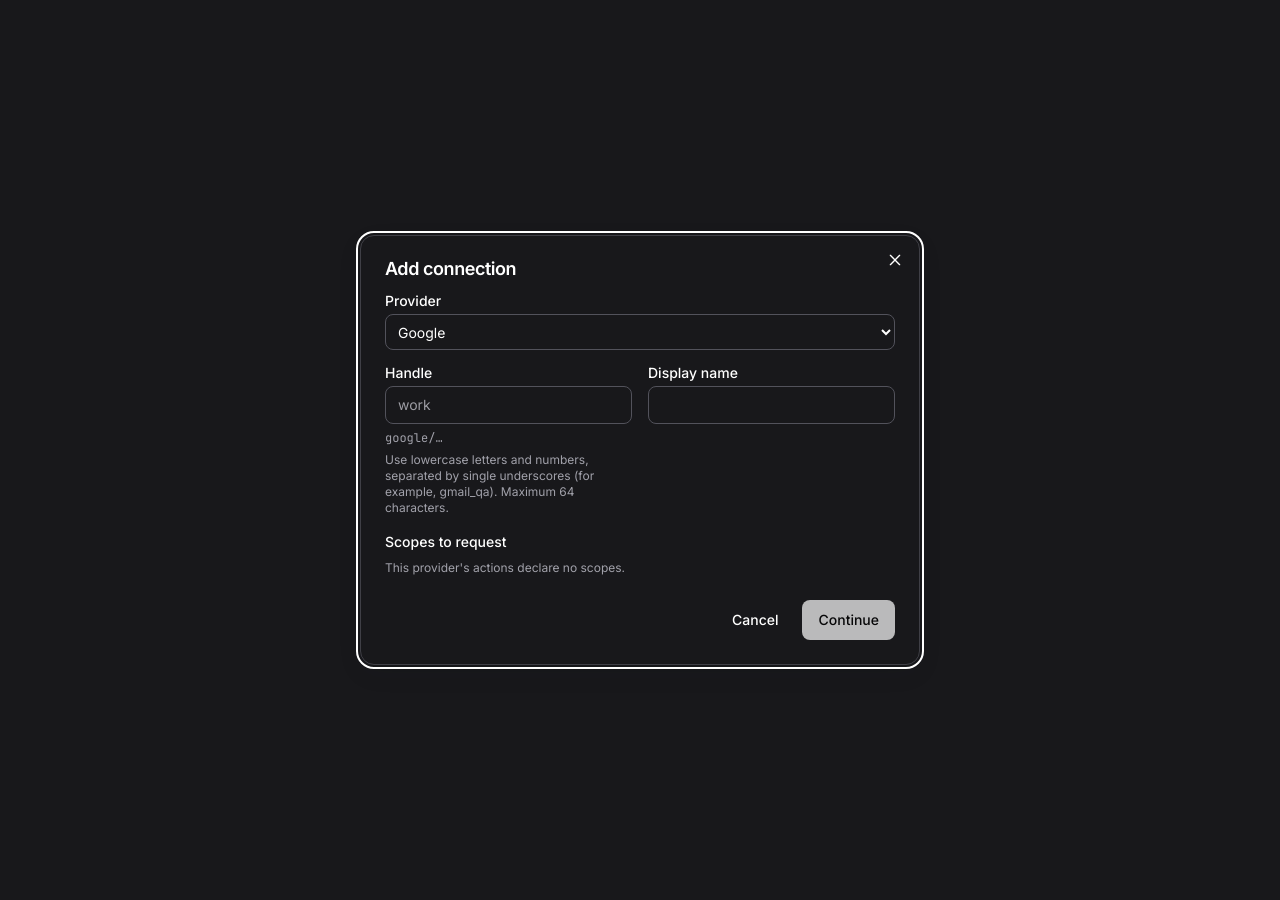
Scenario: AddConnectionDialog ownership › renders a server validation error as text and keeps the dialog usable
Step 1. Type "team_calendar" into the field with test id "connection-name" → coordinates (508, 405), box [385,386,632,424]
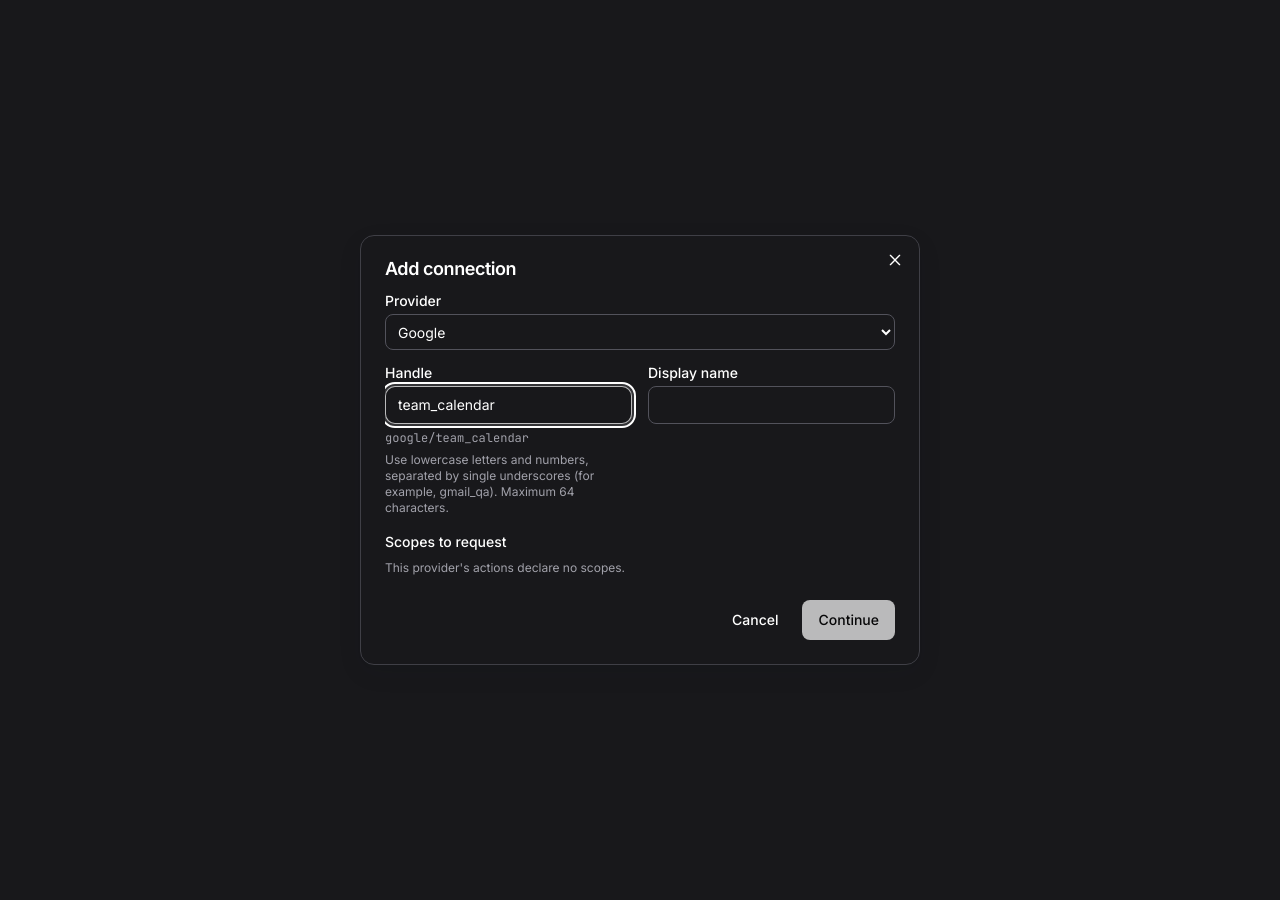
Step 2. Type "Team calendar" into the field with test id "connection-display-name" → coordinates (772, 405), box [648,386,895,424]
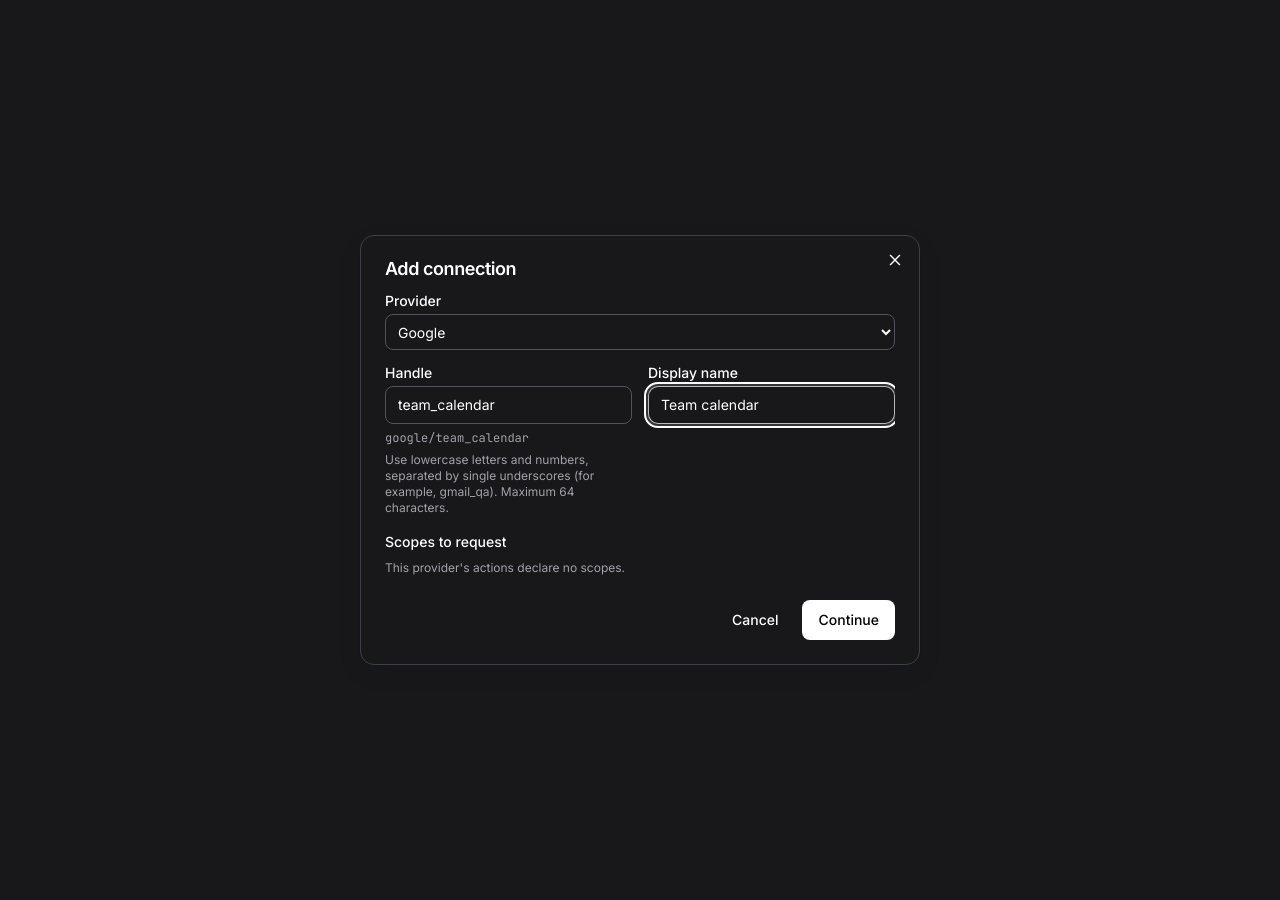
Step 3. Click the button with test id "connection-continue" → coordinates (849, 620), box [802,600,895,640]
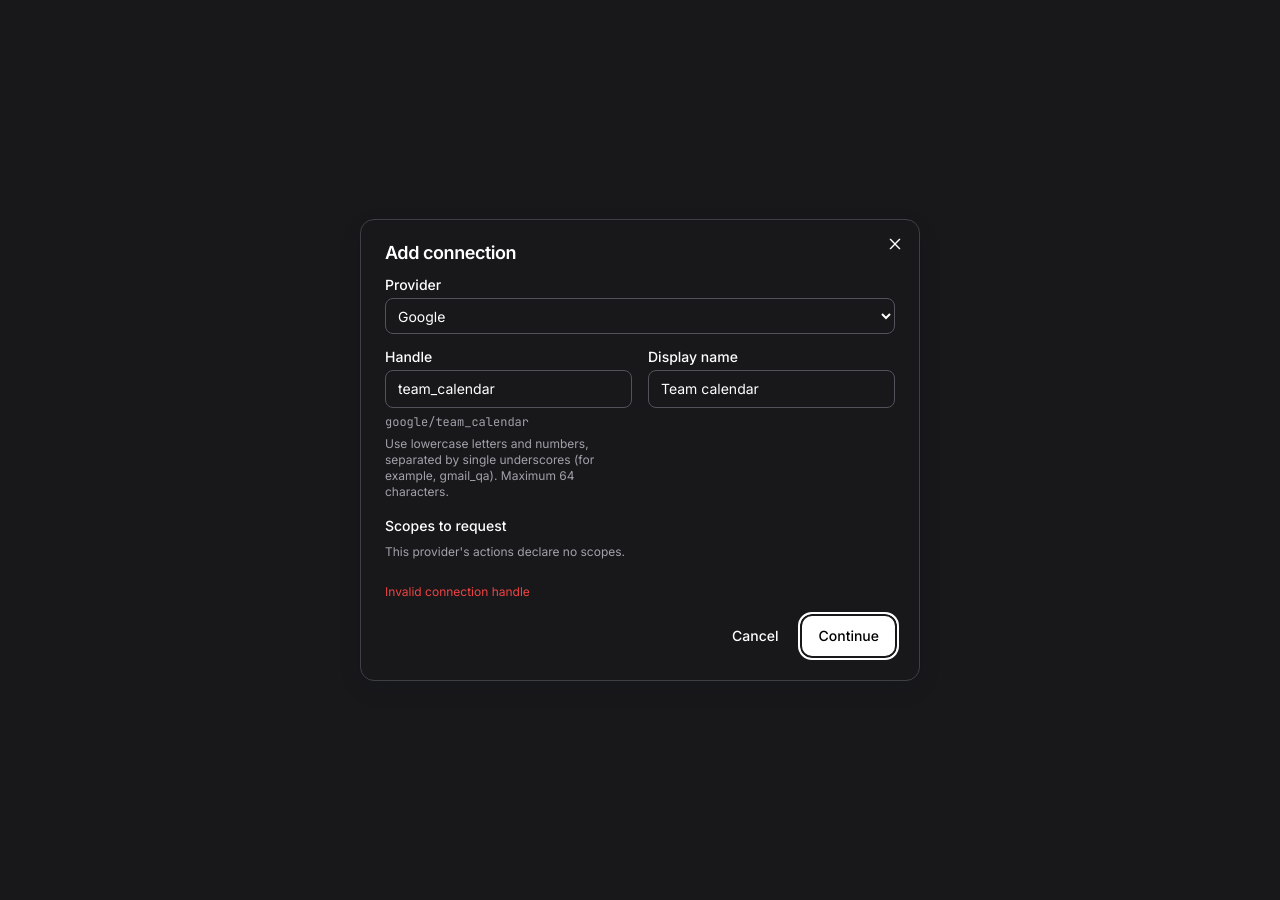
Expected: the dialog is shown, [360,219,920,681]
Now the button with test id "connection-continue" is enabled, box [802,616,895,656]
Now the message reads "Invalid connection handle", box [385,584,530,599]
